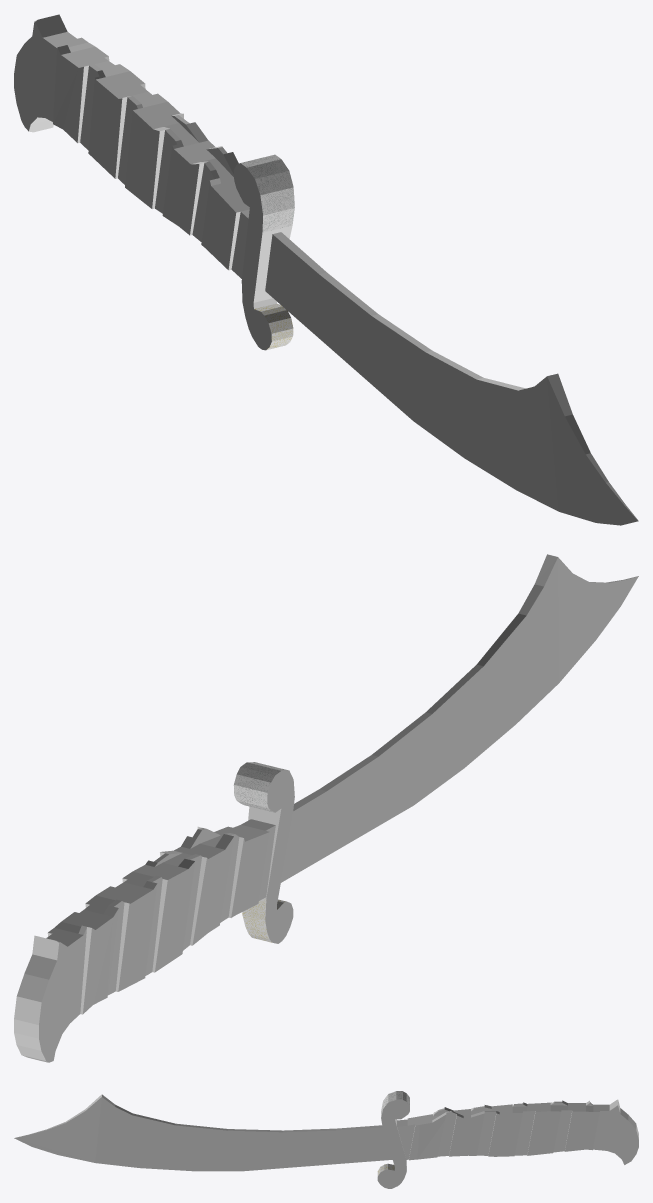
Rendered from model_scale.obj.
3 views of the same model, one above another, from view 1: azimuth 30°, elevation 25°; view 2: azimuth 150°, elevation 25°; view 3: azimuth 270°, elevation 25° (orthographic). The views are drawn at different scales.
Visible parts, largest first — view 1: mesh1_mesh1-geometry; view 2: mesh1_mesh1-geometry; view 3: mesh1_mesh1-geometry.
Part boxes in pixels (x1=…): mesh1_mesh1-geometry: x1=14, y1=14, x2=638, y2=525; mesh1_mesh1-geometry: x1=14, y1=554, x2=638, y2=1062; mesh1_mesh1-geometry: x1=14, y1=1091, x2=638, y2=1188.
Size of the model in its own units: 0.00693 by 0.0331 by 0.2064.
